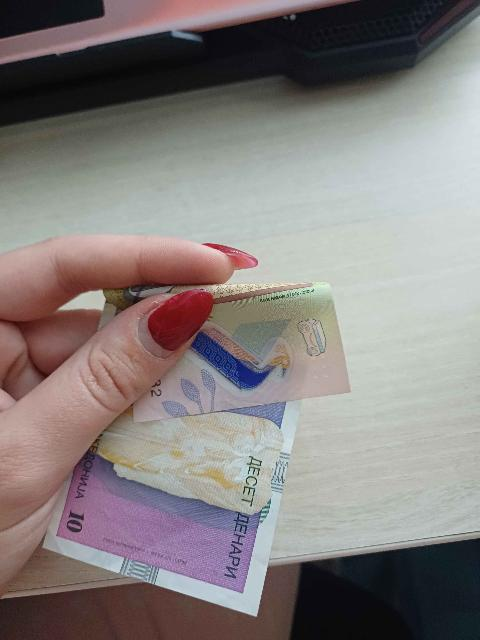note: (50, 284, 344, 608)
